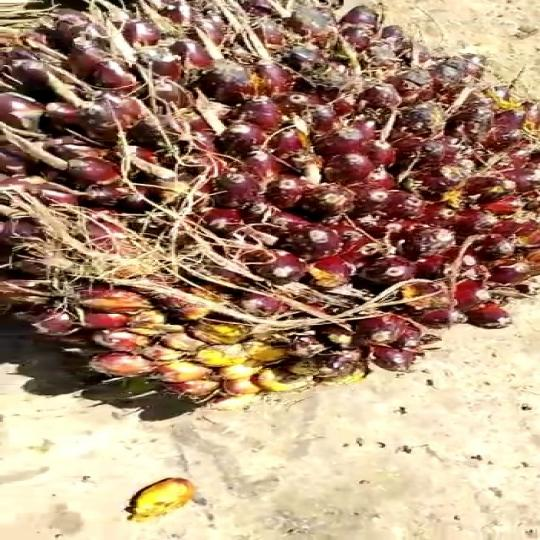kurang masak: (0, 0, 540, 397)
